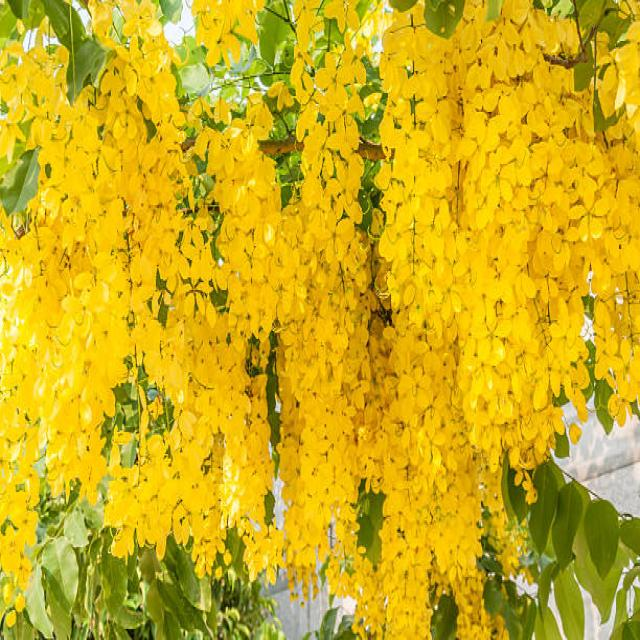Amaltas: (150, 38, 512, 500), (396, 39, 640, 566), (202, 44, 421, 538), (295, 158, 510, 640), (6, 68, 173, 640), (36, 59, 232, 542)
